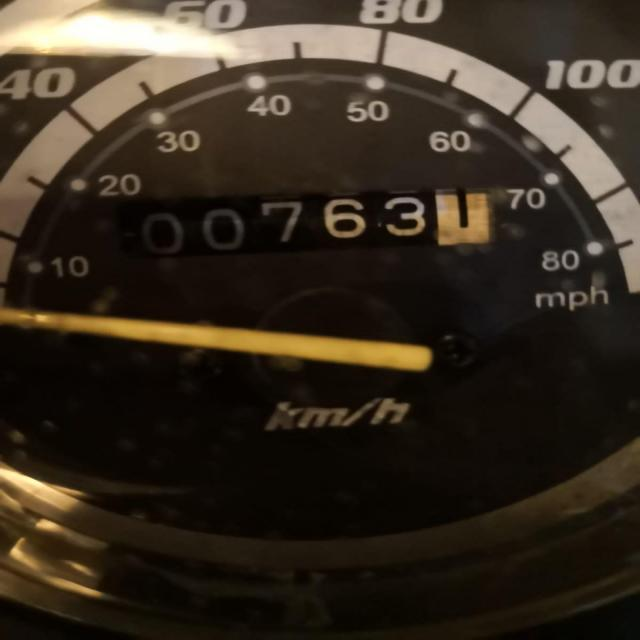odometer: (114, 187, 499, 263)
